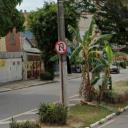NoVirarU: (54, 40, 68, 54)
